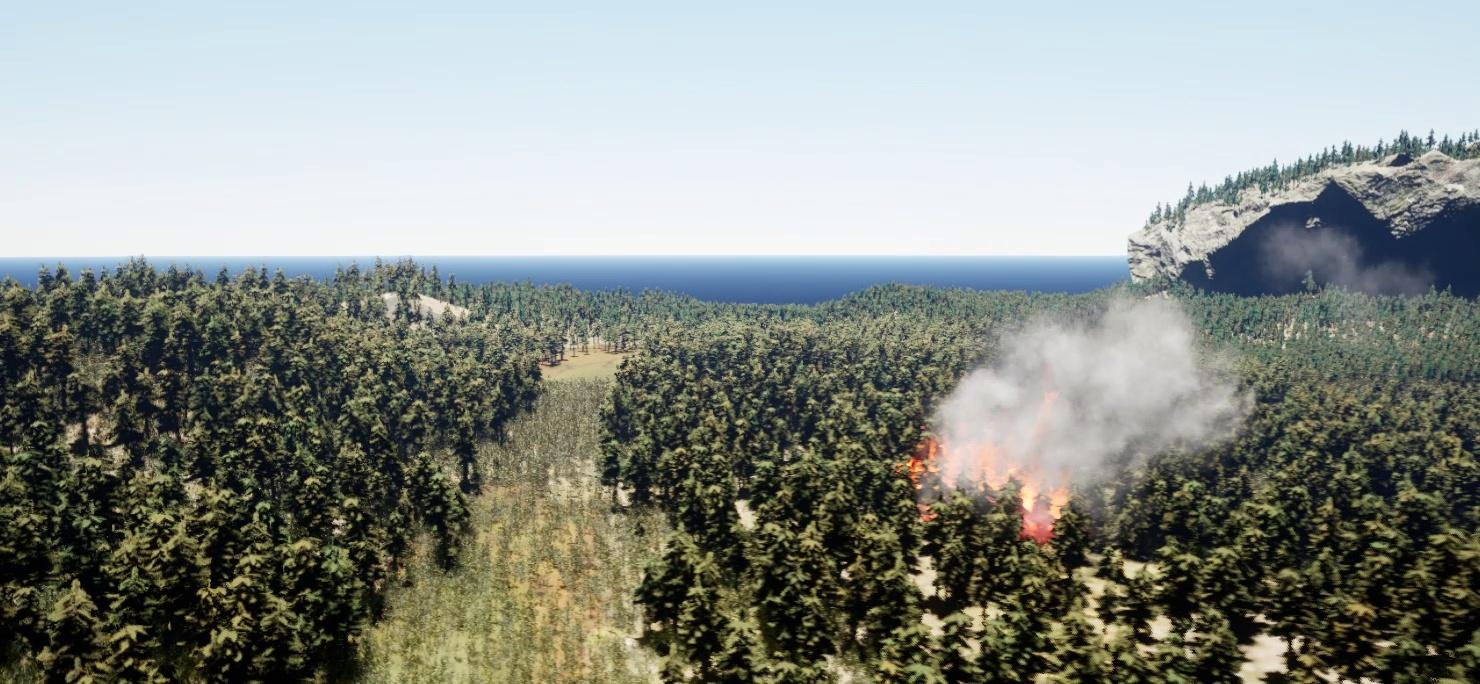fire: (901, 437, 1068, 540)
smoke: (922, 286, 1258, 506), (1273, 224, 1435, 322)
